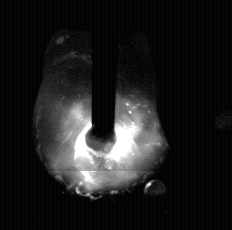arame: (92, 0, 117, 152)
poca: (35, 0, 164, 230)
